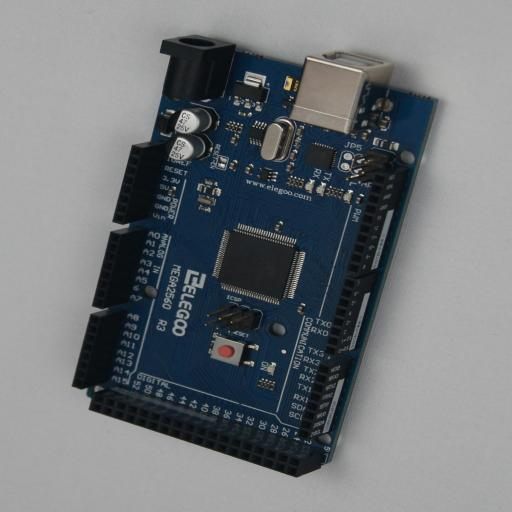Arduino Mega 2560 -Blue-: (72, 35, 438, 477)
